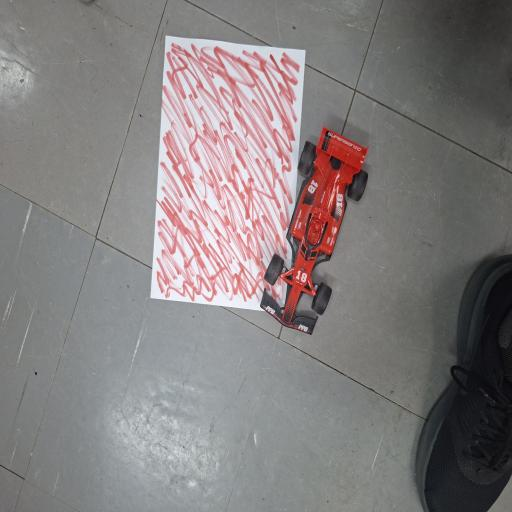carro: (261, 127, 367, 333)
